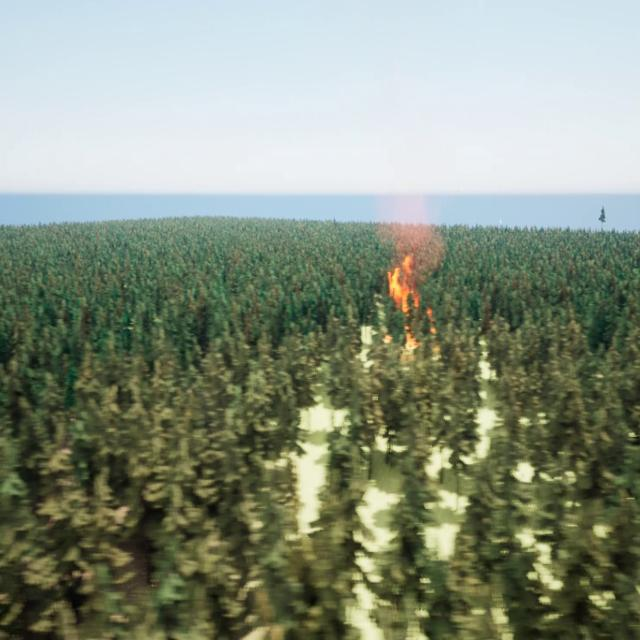fire: (383, 254, 438, 344)
smoke: (379, 196, 443, 266)
